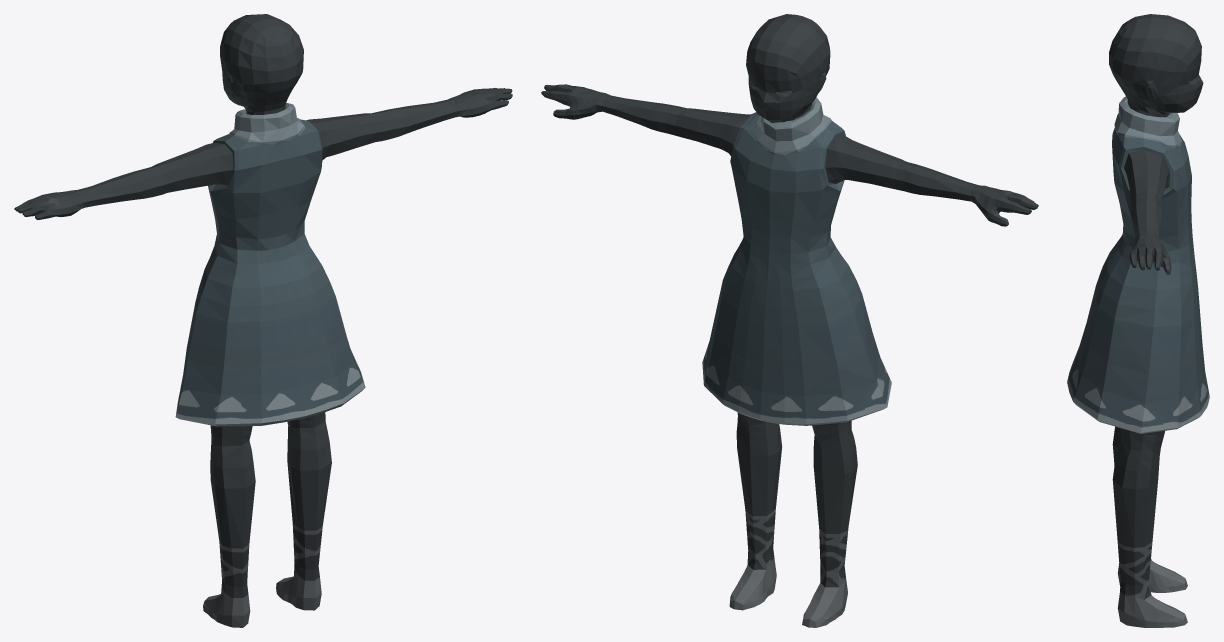
File: NPC_YoungFemaleBody.glb
3 renders of one model, left to right at view 1: azimuth 30°, elevation 25°; view 2: azimuth 150°, elevation 25°; view 3: azimuth 270°, elevation 25°, orthographic.
Visible parts, largest first — view 1: NPC_YoungFemaleBody; view 2: NPC_YoungFemaleBody; view 3: NPC_YoungFemaleBody.
Boxes of the visible parts, bbox=[...] form: NPC_YoungFemaleBody: bbox=[14, 14, 512, 627]; NPC_YoungFemaleBody: bbox=[541, 14, 1038, 627]; NPC_YoungFemaleBody: bbox=[1067, 14, 1209, 627].
Bounding box in the file's own units: 12.42 × 14.14 × 3.12.
1 material, 1 textured.
